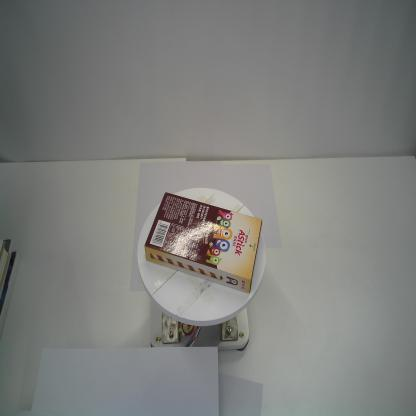Dessert: (144, 192, 262, 294)
